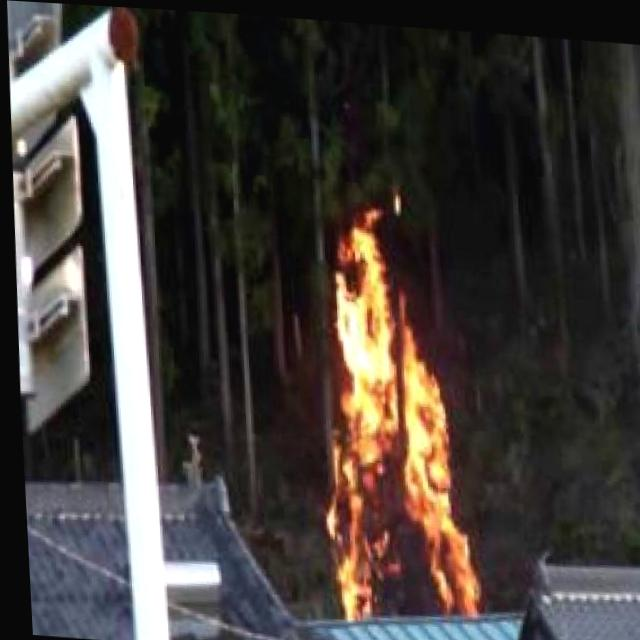Fire: (303, 215, 475, 631)
